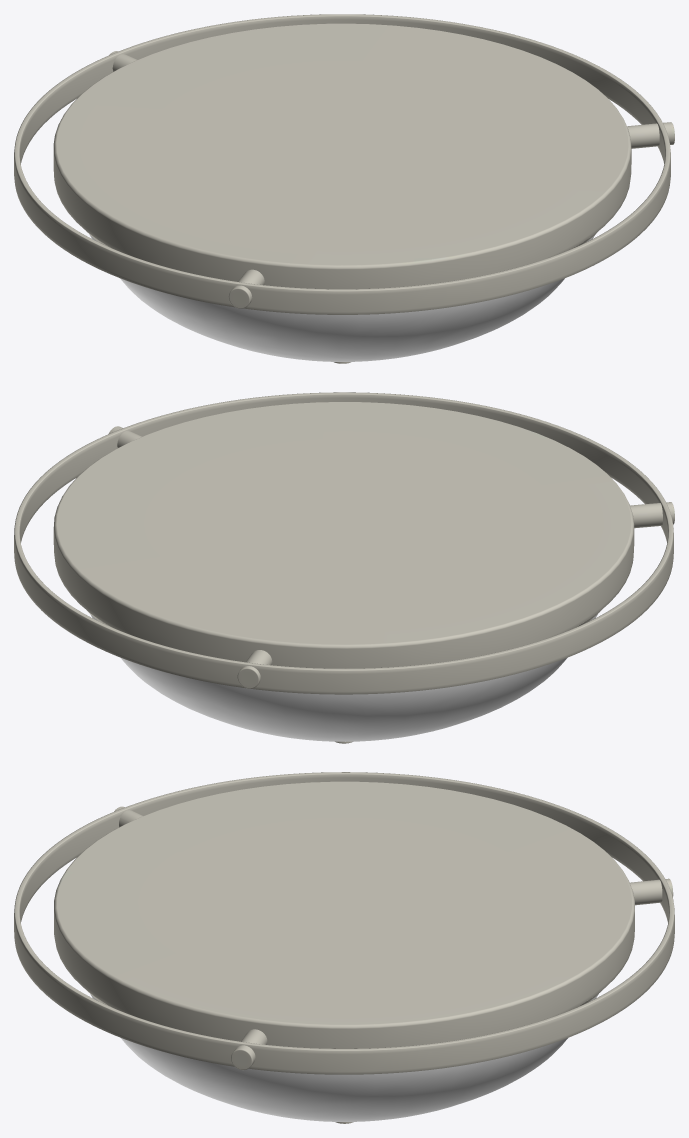
Rendered from abo-B0828FFDWG.glb.
The picture shows the model from 3 angles, top to bottom: view 1: azimuth 30°, elevation 25°; view 2: azimuth 150°, elevation 25°; view 3: azimuth 270°, elevation 25°; orthographic projection.
Size of the model in its own units: 0.361 by 0.13 by 0.361.
Materials: 1 (1 with a texture image).
